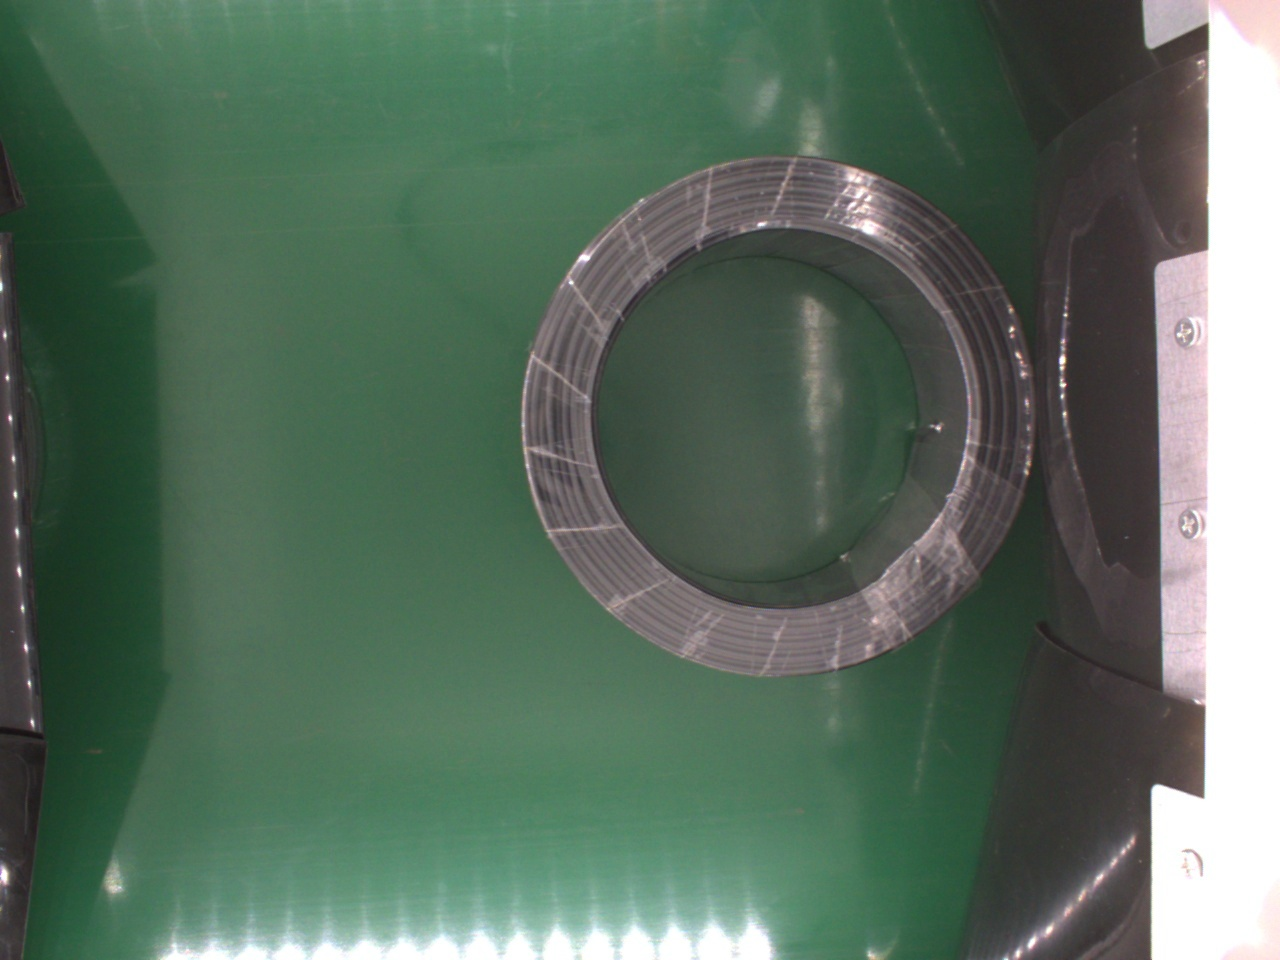black: (511, 157, 1031, 679)
